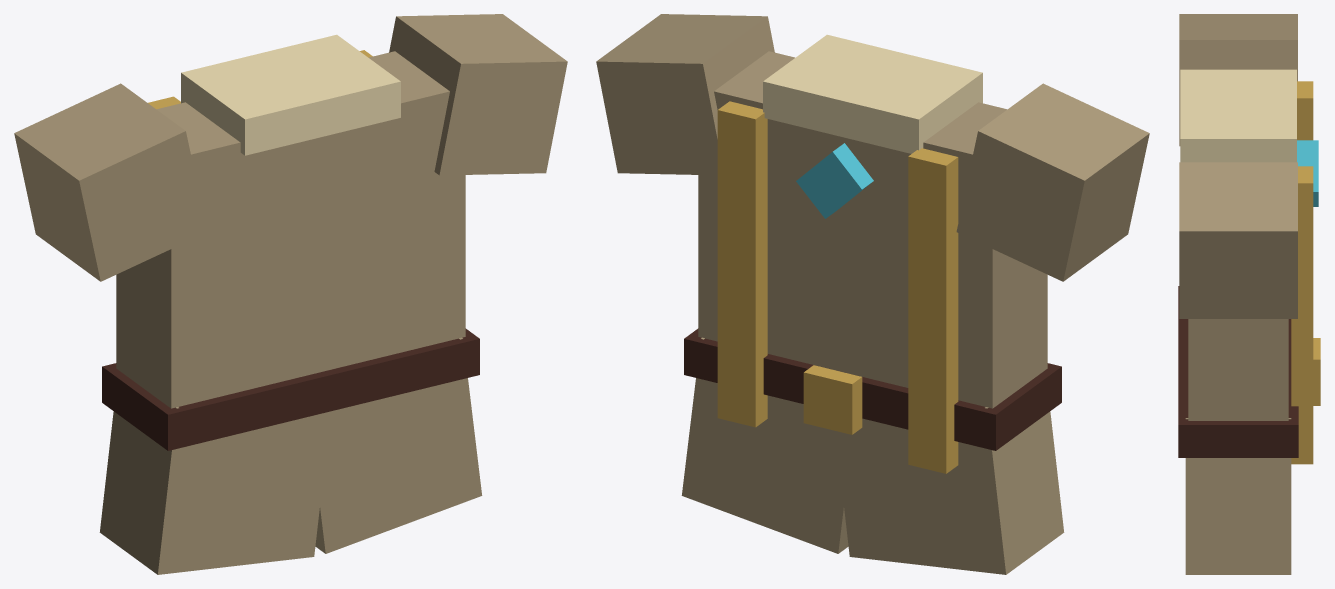
Rendered from pilgrim_robes.glb.
3 renders of one model, left to right at view 1: azimuth 30°, elevation 25°; view 2: azimuth 150°, elevation 25°; view 3: azimuth 270°, elevation 25°, orthographic. The views are drawn at different scales.
Parts seen in each view (by area): view 1: pilgrim_robes; view 2: pilgrim_robes; view 3: pilgrim_robes.
Boxes of the visible parts, x1,y1,x2,y2 form: pilgrim_robes: (14,14,567,574); pilgrim_robes: (596,14,1149,574); pilgrim_robes: (1178,14,1320,574).
Bounding box in the file's own units: 2.82 × 2.54 × 0.78.
